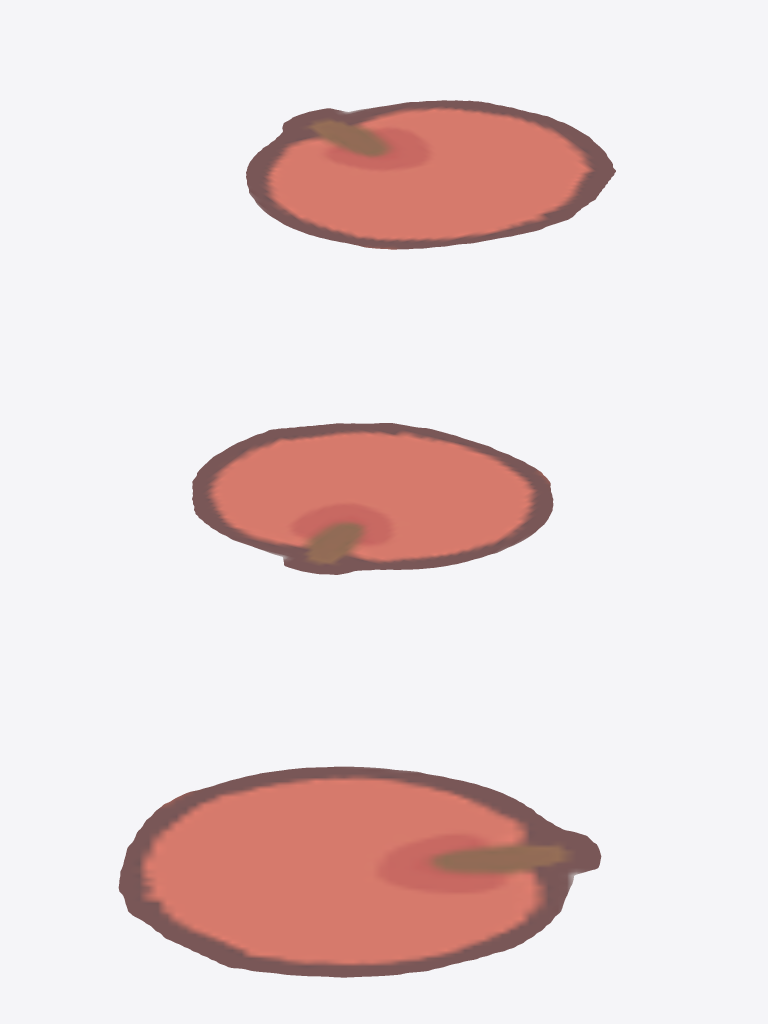
Rendered from Mesh_Activity_Pachinko_02_Item_01.fbx.
3 renders of one model, top to bottom at view 1: azimuth 30°, elevation 25°; view 2: azimuth 150°, elevation 25°; view 3: azimuth 270°, elevation 25°, orthographic. The views are drawn at different scales.
Visible parts, largest first — view 1: Mesh_Activity_Pachinko_02_Item_01; view 2: Mesh_Activity_Pachinko_02_Item_01; view 3: Mesh_Activity_Pachinko_02_Item_01.
Part boxes in pixels (x1,y1,x2,y2): Mesh_Activity_Pachinko_02_Item_01: (246,100,615,249); Mesh_Activity_Pachinko_02_Item_01: (192,423,553,574); Mesh_Activity_Pachinko_02_Item_01: (118,766,601,977).
Bounding box in the file's own units: 15.45 × 1.11e-14 × 15.55.
